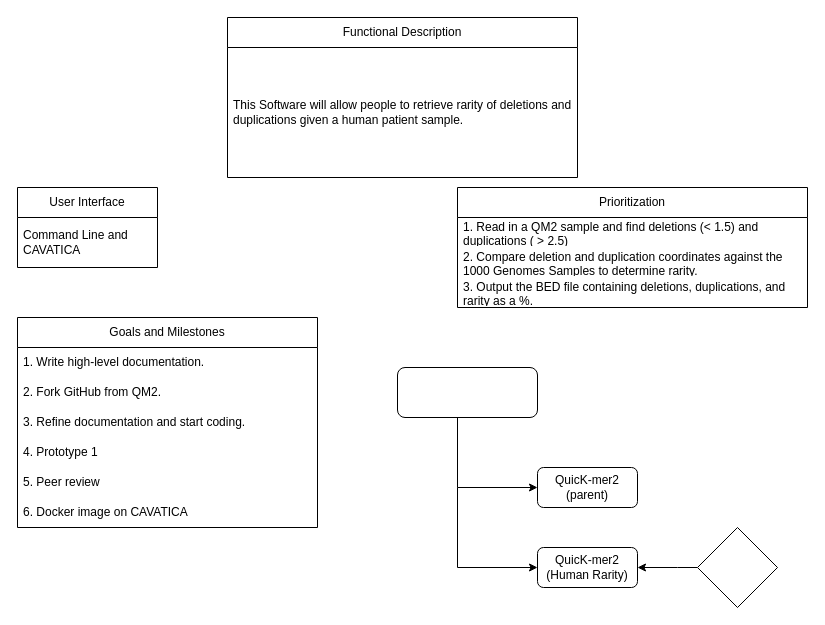
Some shapes in this 825 by 625 pixel diagram are drawn without their labels. Each missing label, with the centre of its shape:
"1000 Genomes Data" goes at point (737, 567).
"Modules: root" goes at point (467, 392).
